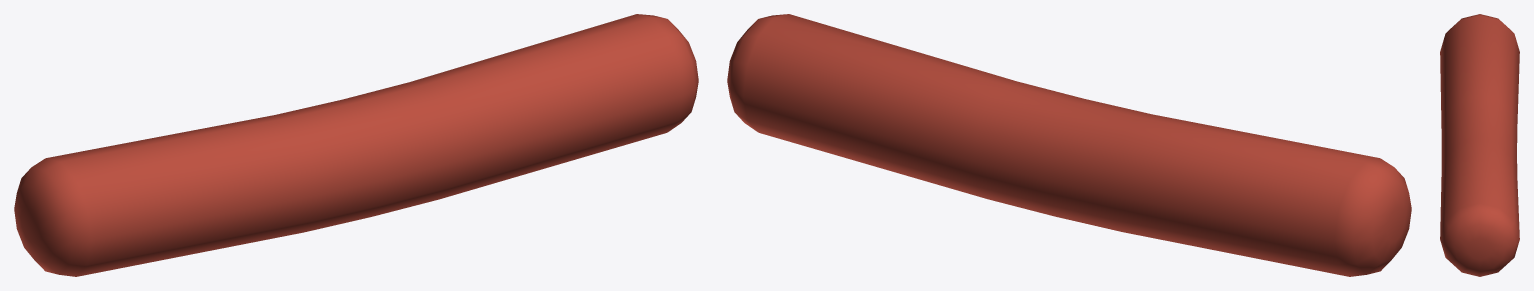
File: Sausage.001.fbx
The picture shows the model from 3 angles, left to right: view 1: azimuth 30°, elevation 25°; view 2: azimuth 150°, elevation 25°; view 3: azimuth 270°, elevation 25°; orthographic projection. The views are drawn at different scales.
Visible parts, largest first — view 1: Sausage.001; view 2: Sausage.001; view 3: Sausage.001.
Part boxes in pixels (<box>): Sausage.001: <box>14,14,698,276</box>; Sausage.001: <box>727,14,1411,276</box>; Sausage.001: <box>1440,14,1519,276</box>.
Bounding box in the file's own units: 160 × 25.95 × 28.84.
